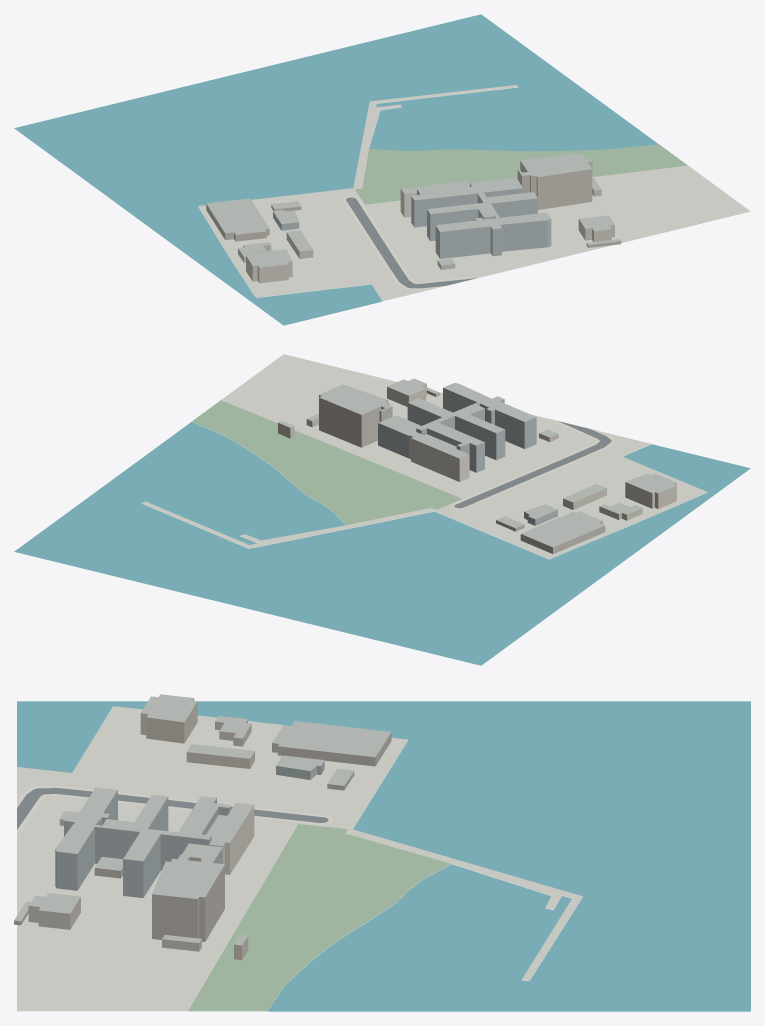
3 views of the same model, one above another, from view 1: azimuth 30°, elevation 25°; view 2: azimuth 150°, elevation 25°; view 3: azimuth 270°, elevation 25° (orthographic). The views are drawn at different scales.
Parts seen in each view (by area): view 1: city; view 2: city; view 3: city.
Boxes of the visible parts, x1=… form: city: x1=14, y1=14, x2=750, y2=325; city: x1=14, y1=354, x2=750, y2=665; city: x1=14, y1=694, x2=750, y2=1011.
Bounding box in the file's own units: 500 × 33.78 × 502.
